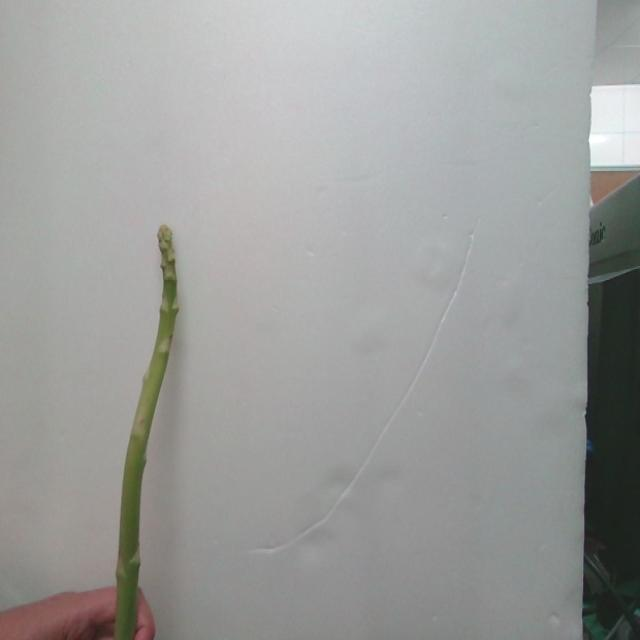aspargus: (116, 226, 182, 640)
